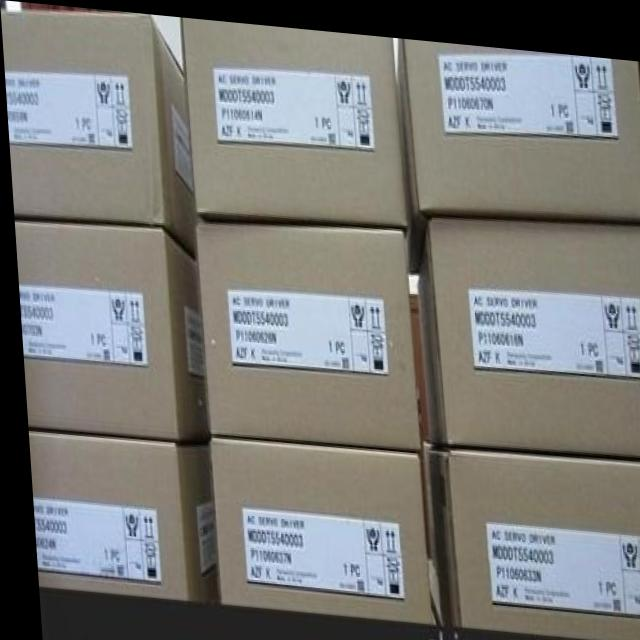box: (413, 212, 640, 445), (0, 4, 193, 257), (193, 222, 413, 441), (396, 35, 640, 228), (181, 17, 405, 221), (14, 219, 205, 442), (423, 437, 640, 633), (204, 435, 424, 615), (23, 430, 215, 601)
